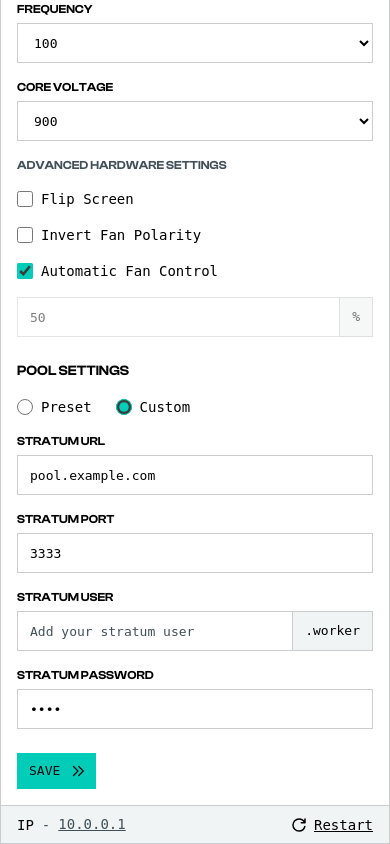
Test: DeviceSettingsAccordion actions › opens the RestartModal from the mobile footer Restart button
This screenshot has width=390, height=844.
Click the button "Restart".
click(332, 824)  # box x1=292 y1=814 x2=373 y2=834
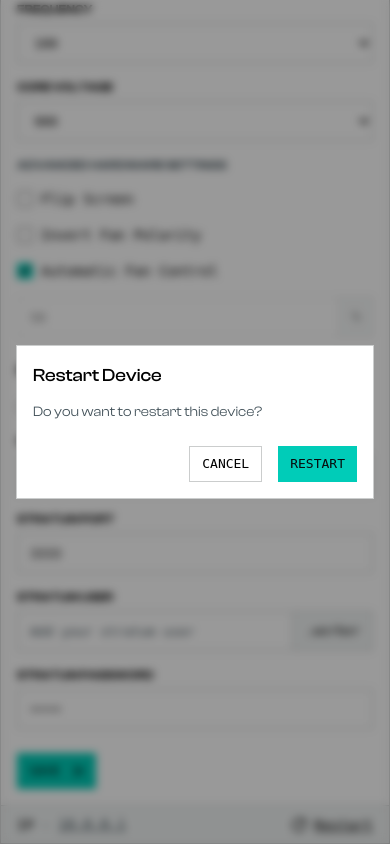
Check: the dialog is shown, box x1=16 y1=345 x2=374 y2=499
